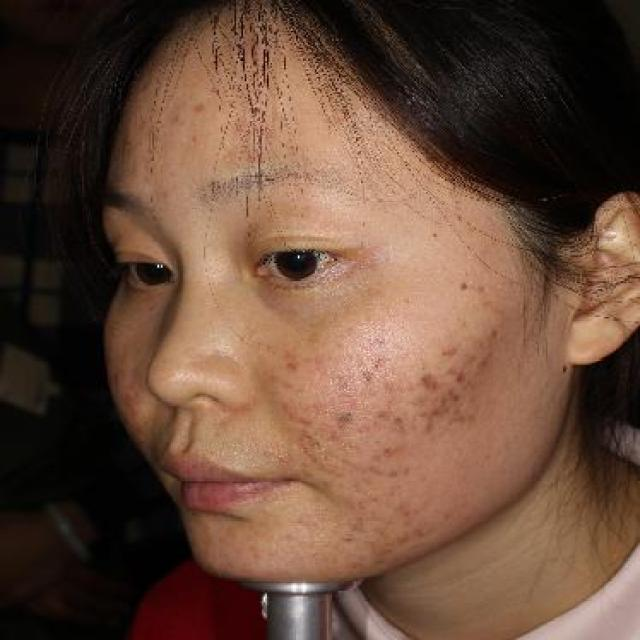dark spot: (470, 344, 500, 384), (414, 401, 448, 434), (358, 349, 390, 383), (414, 369, 447, 397), (344, 512, 371, 538), (330, 408, 363, 429), (443, 363, 472, 385), (389, 412, 414, 436), (365, 459, 390, 483), (394, 500, 416, 526), (293, 431, 320, 451), (438, 342, 464, 362), (164, 108, 190, 128), (483, 323, 508, 343), (386, 462, 411, 482), (284, 354, 306, 375), (277, 399, 296, 423), (372, 404, 394, 424), (296, 409, 317, 429), (378, 442, 399, 462), (339, 452, 359, 472), (394, 529, 416, 545), (192, 98, 210, 115)
